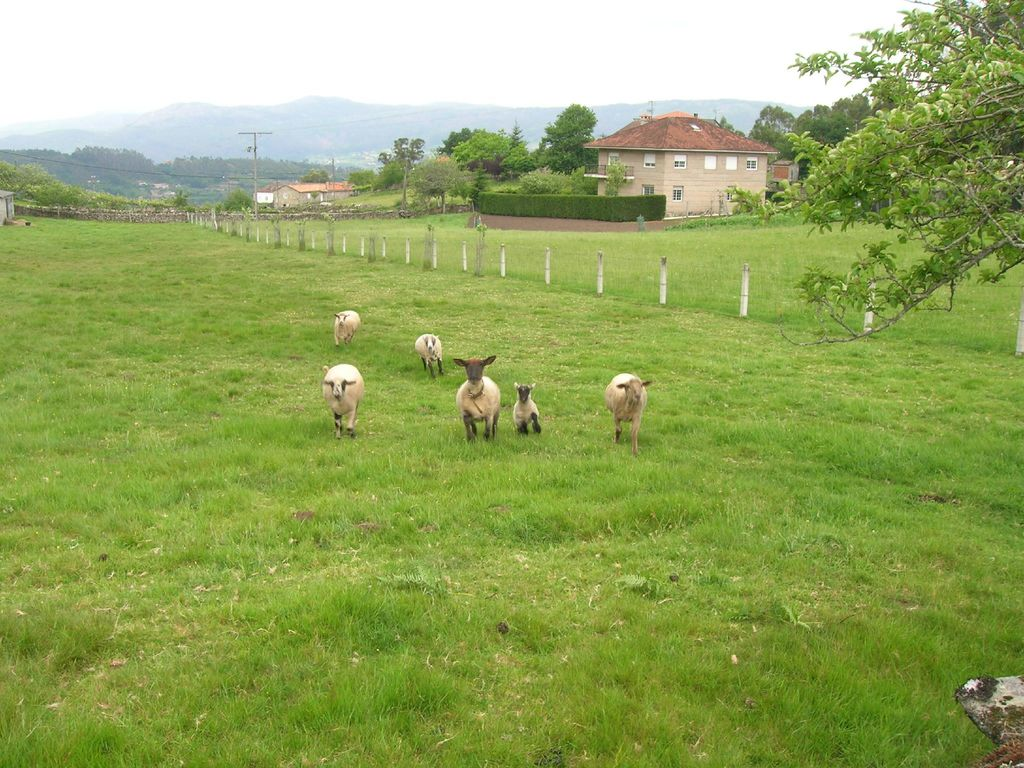sheep: (602, 373, 650, 449), (321, 362, 361, 443), (412, 330, 445, 374), (515, 384, 536, 431), (332, 312, 361, 345)
